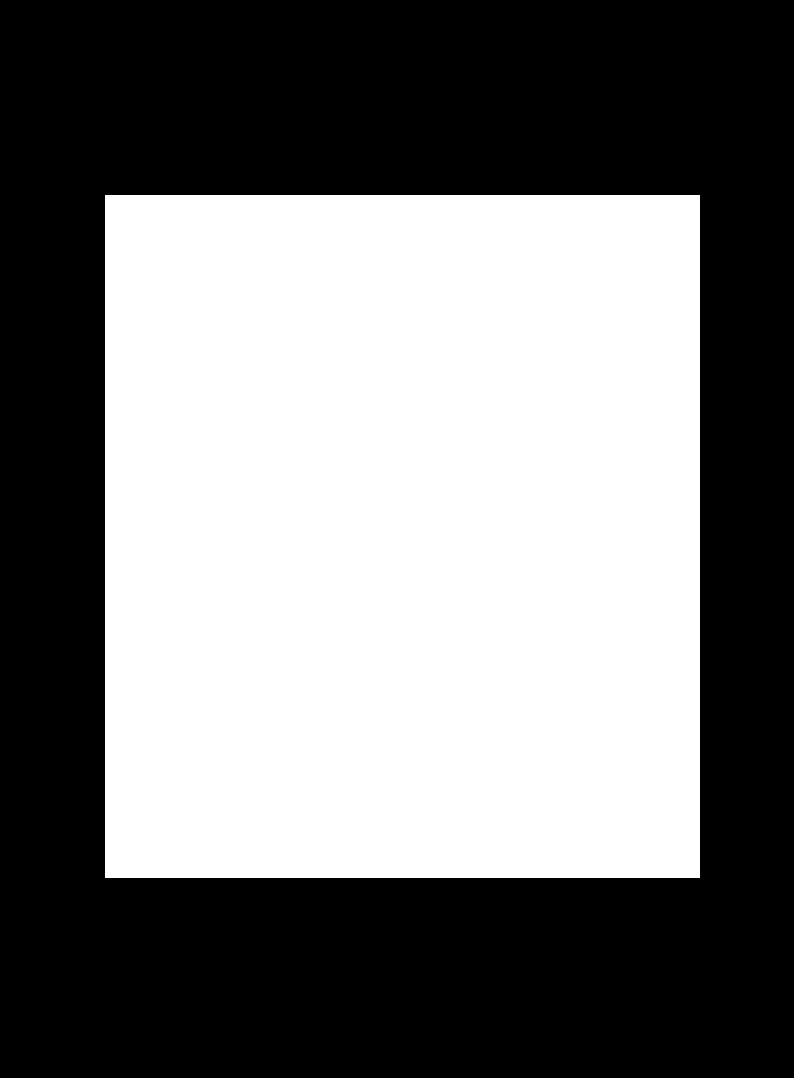table: (105, 195, 699, 877)
